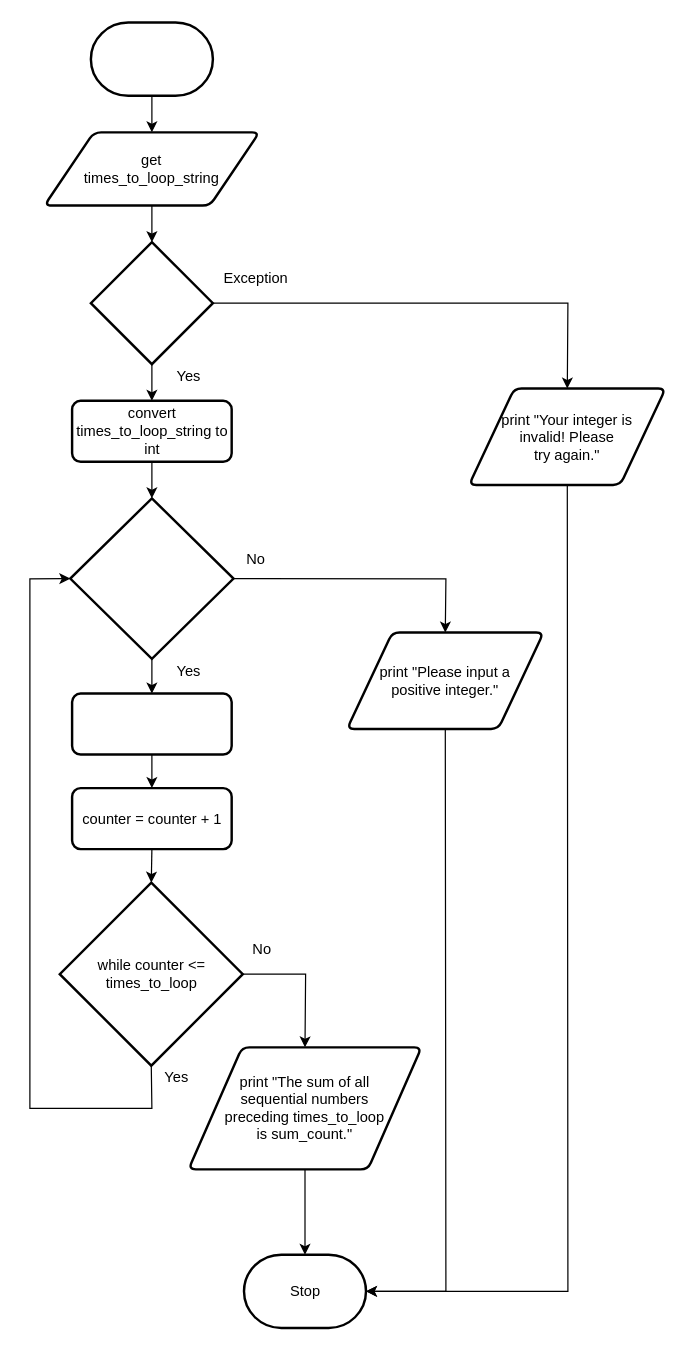
This 688x1349 diagram has some shape labels left out. The centre of each missing label's shape, as x and y in pixels:
"if times_to_loop => 0" goes at point (151, 578).
"Start" goes at point (151, 58).
"sum_count = sum_count * counter" goes at point (151, 723).
"Try" goes at point (151, 302).
